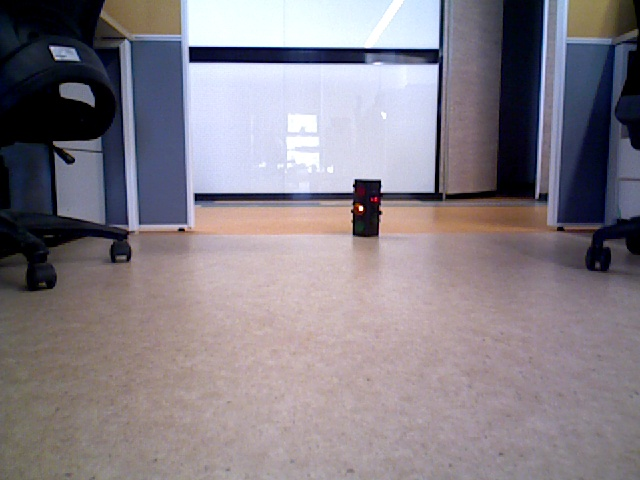yellow: (353, 180, 379, 235)
